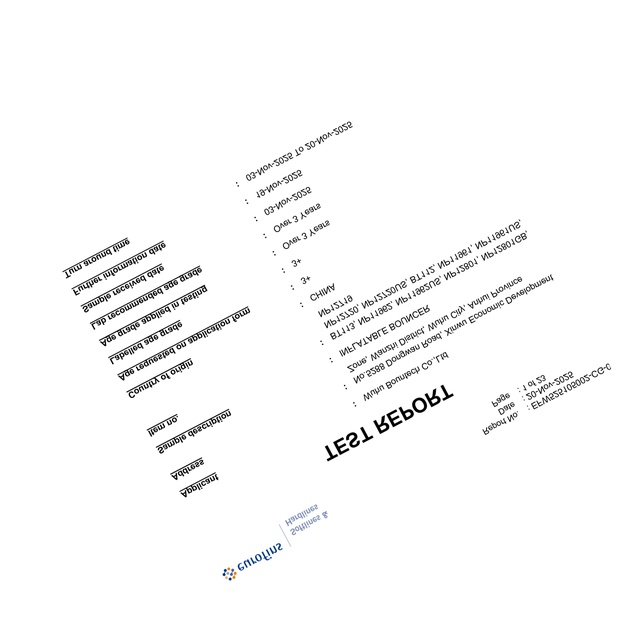eurofins: (216, 539, 289, 587)
